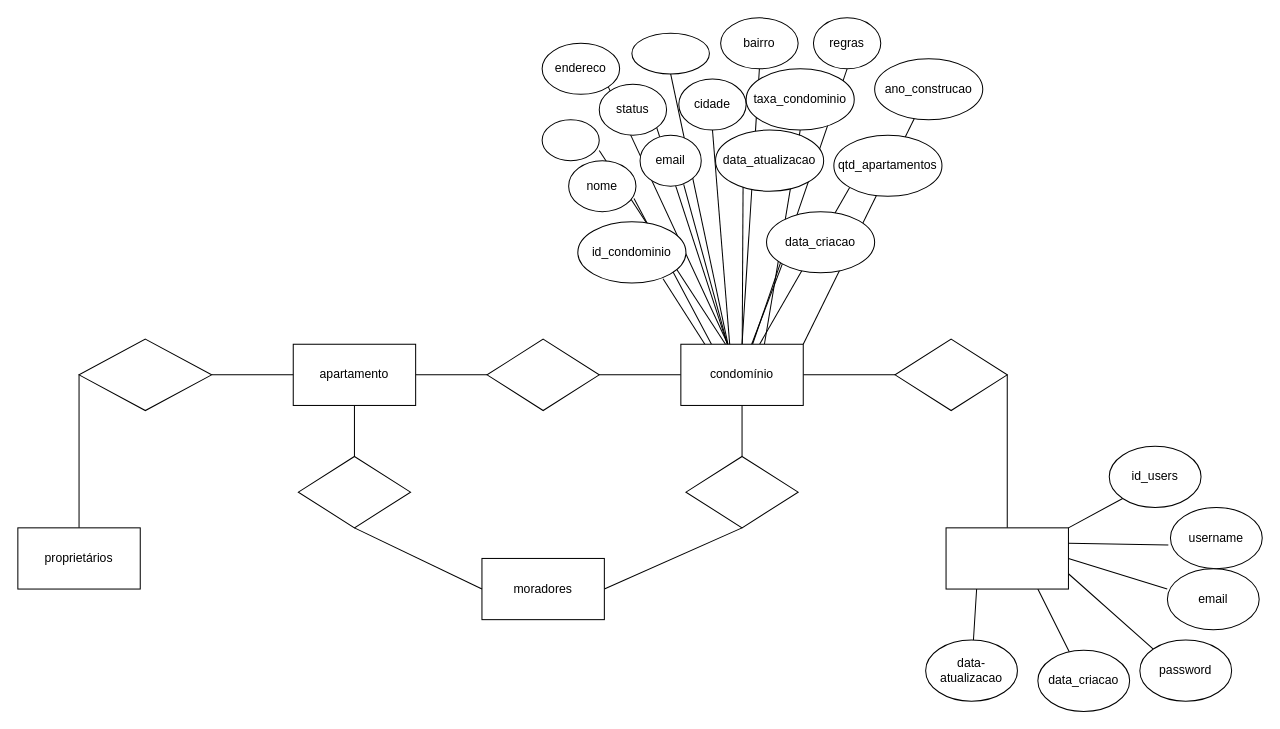
Some shapes in this 1280 by 729 pixel diagram are drawn without their labels. The box of each missing label's shape, as (x1, y1, x2, y2) in pixels:
administrado por: (78, 338, 212, 411)
cnpj: (541, 119, 599, 161)
estado: (631, 32, 709, 74)
fazem parte: (685, 455, 798, 528)
moram no: (297, 455, 411, 528)
possui: (486, 338, 599, 411)
tem cadastrado: (894, 338, 1007, 411)
users: (945, 527, 1068, 589)
